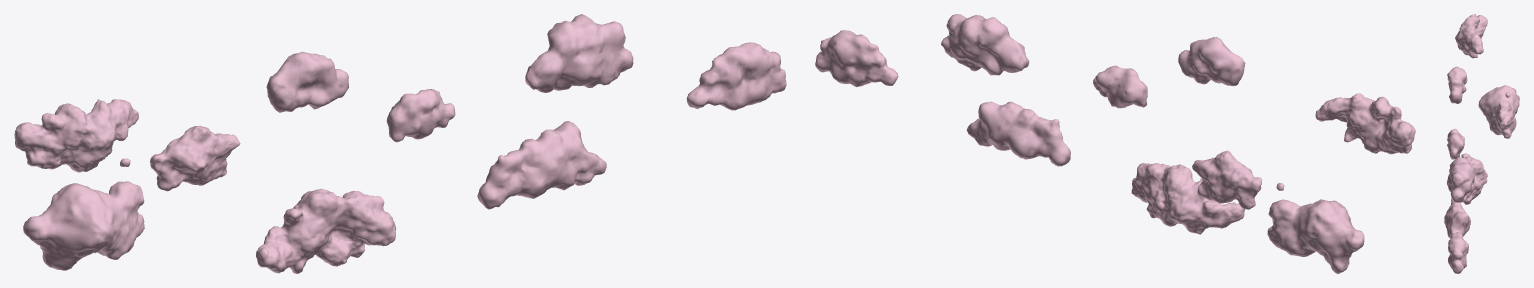
File: cloud_wall_left.glb
The picture shows the model from 3 angles, left to right: view 1: azimuth 30°, elevation 25°; view 2: azimuth 150°, elevation 25°; view 3: azimuth 270°, elevation 25°; orthographic projection. The views are drawn at different scales.
Parts seen in each view (by area): view 1: Mball.001, Mball.004, Mball.007; view 2: Mball.001, Mball.004, Mball.007; view 3: Mball.001, Mball.004, Mball.007.
Part boxes in pixels (x1,y1,x2,y2): Mball.001: (266, 14, 786, 209); Mball.004: (14, 99, 240, 270); Mball.007: (256, 188, 396, 273); Mball.001: (815, 14, 1245, 166); Mball.004: (1192, 93, 1415, 273); Mball.007: (1131, 163, 1244, 234); Mball.001: (1444, 66, 1474, 273); Mball.004: (1455, 14, 1519, 138); Mball.007: (1459, 153, 1487, 204).
Size of the model in its own units: 89.78 by 26.6 by 14.86.
